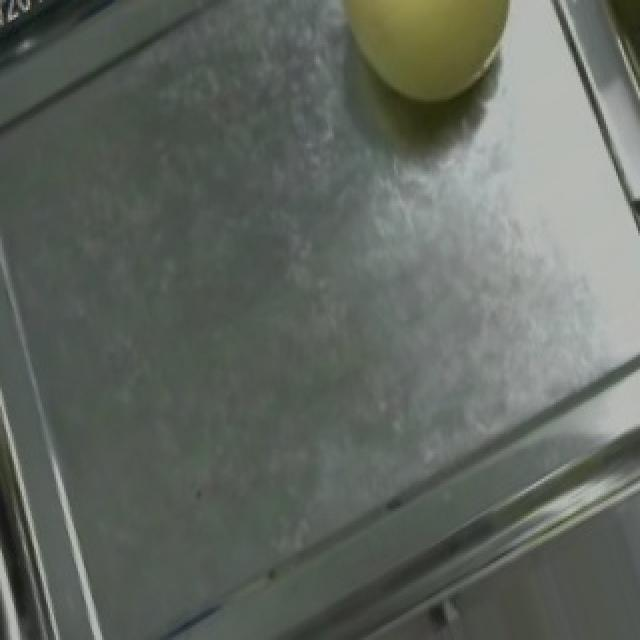Fruit: (302, 0, 544, 139)
